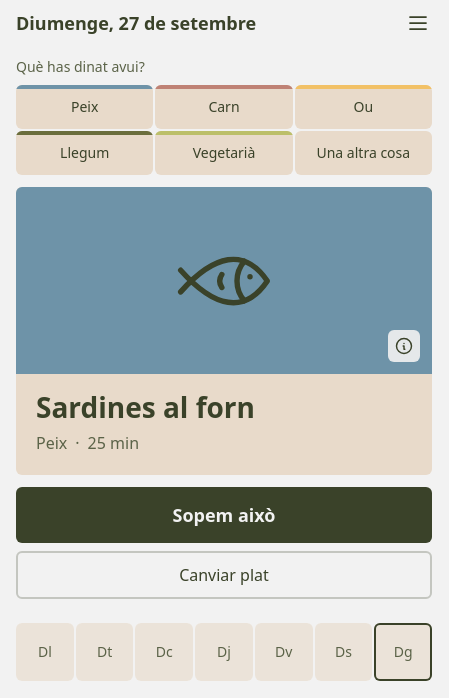
Test case: App › canviar plat amb el swipe i tornar a Avui amb el plat confirmat
Click the button "Canviar plat" at x=224, y=575, box top-left (16, 551), bottom-right (432, 599)
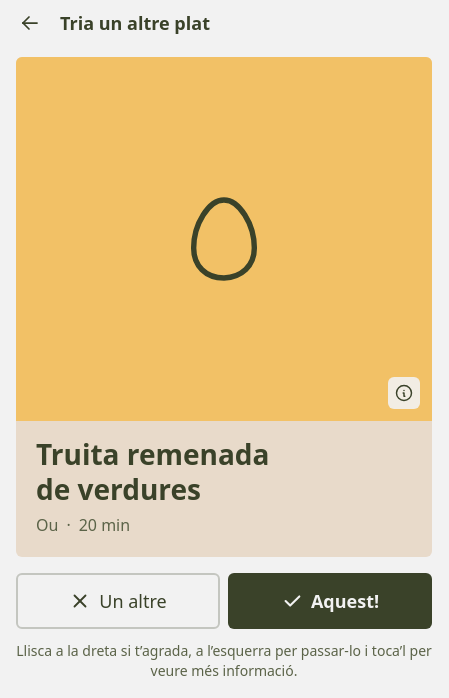
Click the button "Aquest!" at x=330, y=601, box top-left (228, 573), bottom-right (432, 629)
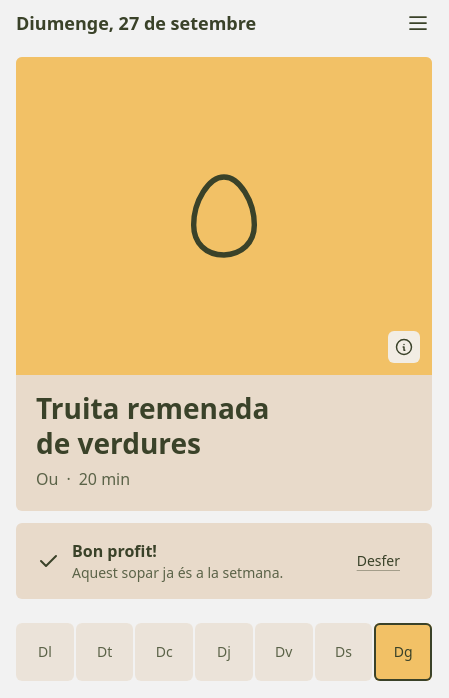
expect the heading "Truita remenada de verdures" is shown: met, box top-left (36, 389), bottom-right (270, 462)
expect the text "Bon profit!" is shown: met, box top-left (72, 540), bottom-right (157, 562)
